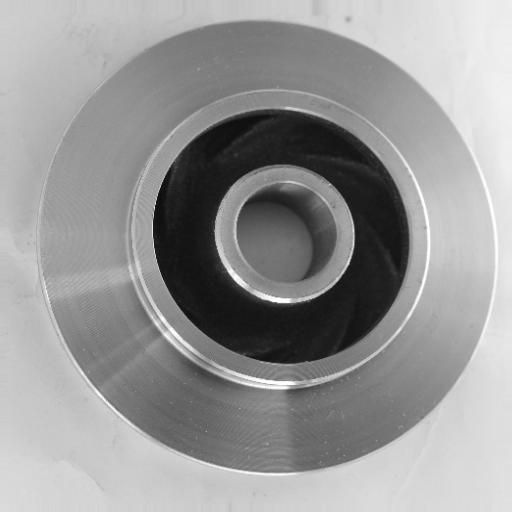polished_casting: (42, 16, 496, 476)
